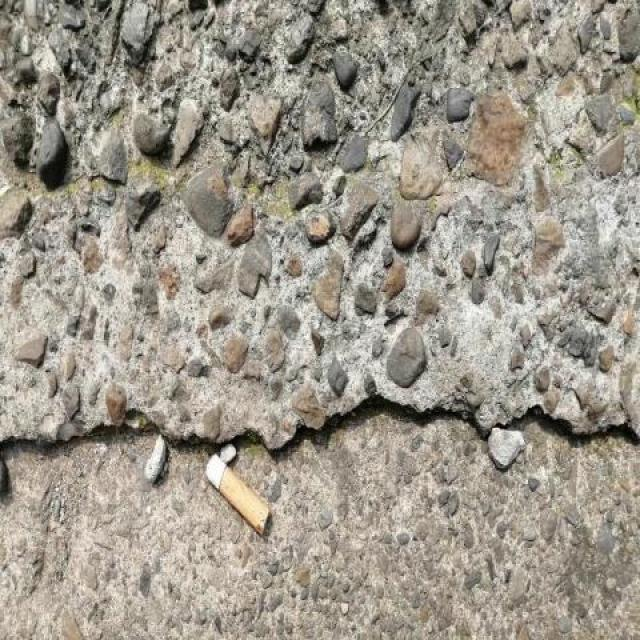non-organic waste: (200, 450, 276, 538)
